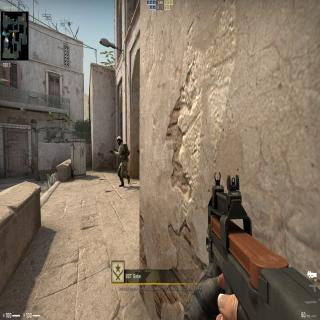CT-Head: (116, 135, 123, 146)
